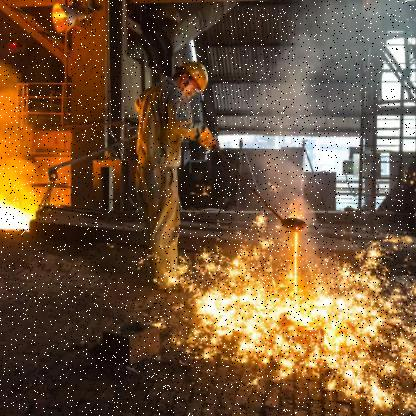helmet: (173, 55, 213, 99)
